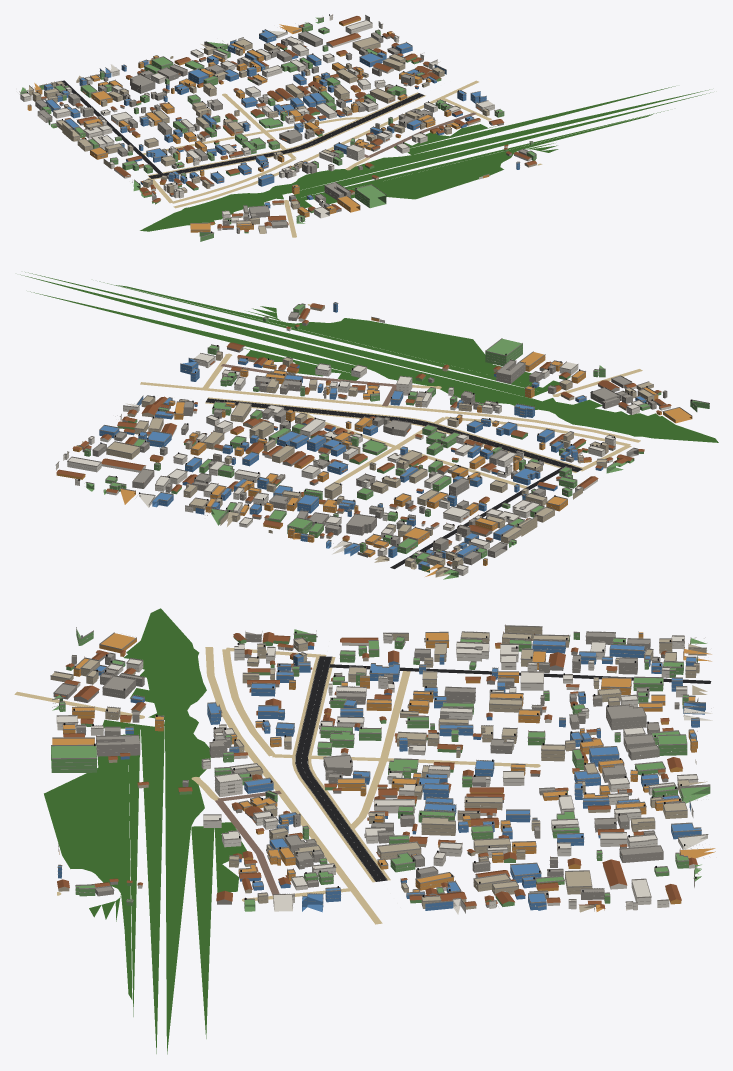
The model's file is zone_t-1_2.glb.
3 renders of one model, top to bottom at view 1: azimuth 30°, elevation 25°; view 2: azimuth 150°, elevation 25°; view 3: azimuth 270°, elevation 25°, orthographic. The views are drawn at different scales.
Visible parts, largest first — view 1: zone_humide_t-1_2, parapet_t-1_2, bld_peinture_blanc_t-1_2-col, bld_peinture_ecaillee_t-1_2-col, bld_beton_t-1_2-col, bld_peinture_bleu_t-1_2-col, bld_peinture_vert_t-1_2-col, bld_peinture_ocre_t-1_2-col, toit_tole_t-1_2, route_residential_terre_t-1_2, bandeau_t-1_2, route_secondary_bitume_t-1_2 (+3 smaller); view 2: zone_humide_t-1_2, parapet_t-1_2, bld_peinture_blanc_t-1_2-col, bld_peinture_ecaillee_t-1_2-col, bld_peinture_bleu_t-1_2-col, bld_beton_t-1_2-col, bld_peinture_vert_t-1_2-col, bld_peinture_ocre_t-1_2-col, toit_tole_t-1_2, route_residential_terre_t-1_2, bandeau_t-1_2, route_secondary_bitume_t-1_2 (+4 smaller); view 3: zone_humide_t-1_2, parapet_t-1_2, bld_peinture_blanc_t-1_2-col, bld_beton_t-1_2-col, bld_peinture_ecaillee_t-1_2-col, bld_peinture_bleu_t-1_2-col, bld_peinture_vert_t-1_2-col, toit_tole_t-1_2, bld_peinture_ocre_t-1_2-col, route_residential_terre_t-1_2, bandeau_t-1_2, route_secondary_bitume_t-1_2 (+4 smaller).
Boxes of the visible parts, x1,y1,x2,y2 form: zone_humide_t-1_2: [140, 86, 710, 231]; parapet_t-1_2: [19, 15, 536, 237]; bld_peinture_blanc_t-1_2-col: [20, 15, 531, 230]; bld_peinture_ecaillee_t-1_2-col: [28, 33, 536, 233]; bld_beton_t-1_2-col: [35, 31, 526, 233]; bld_peinture_bleu_t-1_2-col: [44, 30, 519, 208]; bld_peinture_vert_t-1_2-col: [20, 17, 536, 241]; bld_peinture_ocre_t-1_2-col: [27, 18, 489, 232]; toit_tole_t-1_2: [41, 16, 536, 231]; route_residential_terre_t-1_2: [142, 80, 542, 237]; bandeau_t-1_2: [19, 17, 536, 238]; route_secondary_bitume_t-1_2: [148, 93, 424, 178]; zone_humide_t-1_2: [20, 272, 718, 442]; parapet_t-1_2: [55, 302, 709, 573]; bld_peinture_blanc_t-1_2-col: [56, 311, 670, 575]; bld_peinture_ecaillee_t-1_2-col: [76, 306, 654, 577]; bld_peinture_bleu_t-1_2-col: [99, 303, 646, 569]; bld_beton_t-1_2-col: [82, 312, 667, 566]; bld_peinture_vert_t-1_2-col: [84, 304, 709, 579]; bld_peinture_ocre_t-1_2-col: [56, 317, 692, 576]; toit_tole_t-1_2: [56, 303, 671, 564]; route_residential_terre_t-1_2: [140, 304, 642, 488]; bandeau_t-1_2: [56, 306, 709, 574]; route_secondary_bitume_t-1_2: [206, 398, 582, 471]; zone_humide_t-1_2: [44, 608, 246, 1054]; parapet_t-1_2: [50, 625, 711, 907]; bld_peinture_blanc_t-1_2-col: [56, 633, 712, 914]; bld_beton_t-1_2-col: [53, 632, 698, 907]; bld_peinture_ecaillee_t-1_2-col: [50, 626, 707, 912]; bld_peinture_bleu_t-1_2-col: [58, 640, 705, 912]; bld_peinture_vert_t-1_2-col: [51, 629, 710, 911]; toit_tole_t-1_2: [57, 632, 697, 908]; bld_peinture_ocre_t-1_2-col: [52, 632, 715, 911]; route_residential_terre_t-1_2: [14, 647, 540, 924]; bandeau_t-1_2: [51, 629, 709, 908]; route_secondary_bitume_t-1_2: [295, 656, 387, 881].
Bounding box in the file's own units: 829 × 14 × 551.
